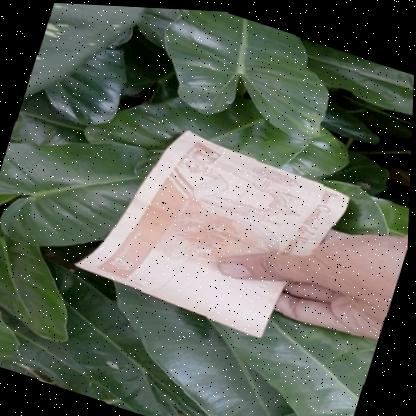twenty-back-vef: (71, 106, 357, 350)
